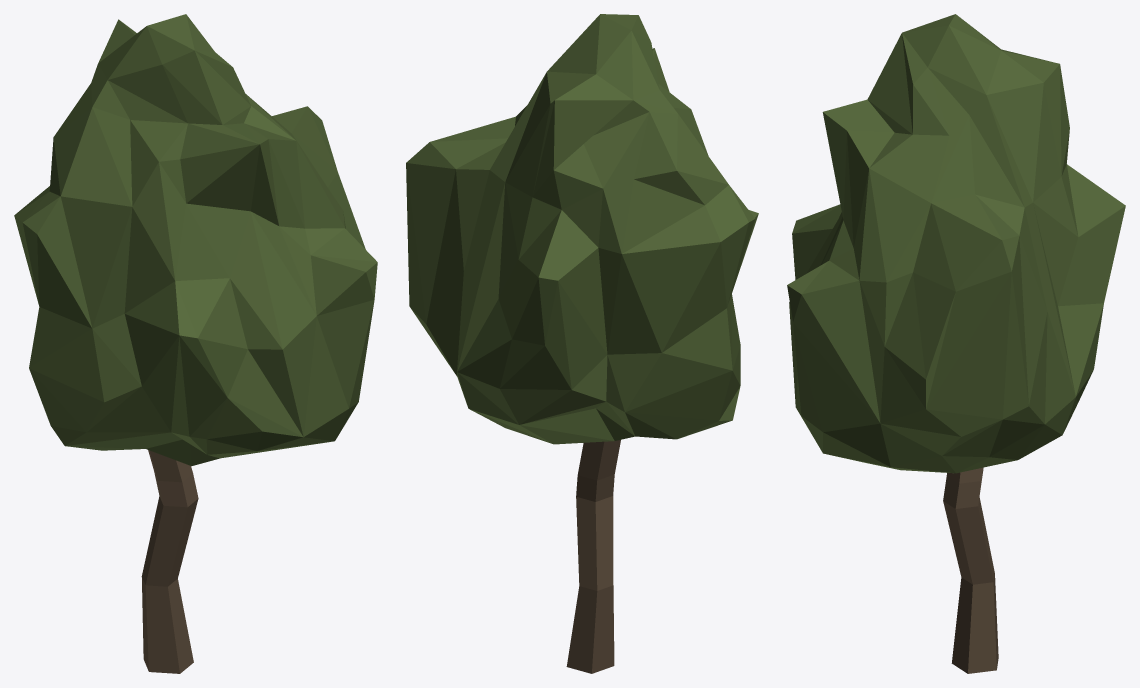
Rendered from tree_096.fbx.
The picture shows the model from 3 angles, left to right: view 1: azimuth 30°, elevation 25°; view 2: azimuth 150°, elevation 25°; view 3: azimuth 270°, elevation 25°; orthographic projection. The views are drawn at different scales.
Parts seen in each view (by area): view 1: tree_096; view 2: tree_096; view 3: tree_096.
Part boxes in pixels (bbox=[...]): tree_096: bbox=[14, 14, 377, 673]; tree_096: bbox=[406, 14, 758, 673]; tree_096: bbox=[787, 14, 1125, 673].
Bounding box in the file's own units: 1.23 × 2.33 × 1.12.
Materials: 1 (1 with a texture image).
